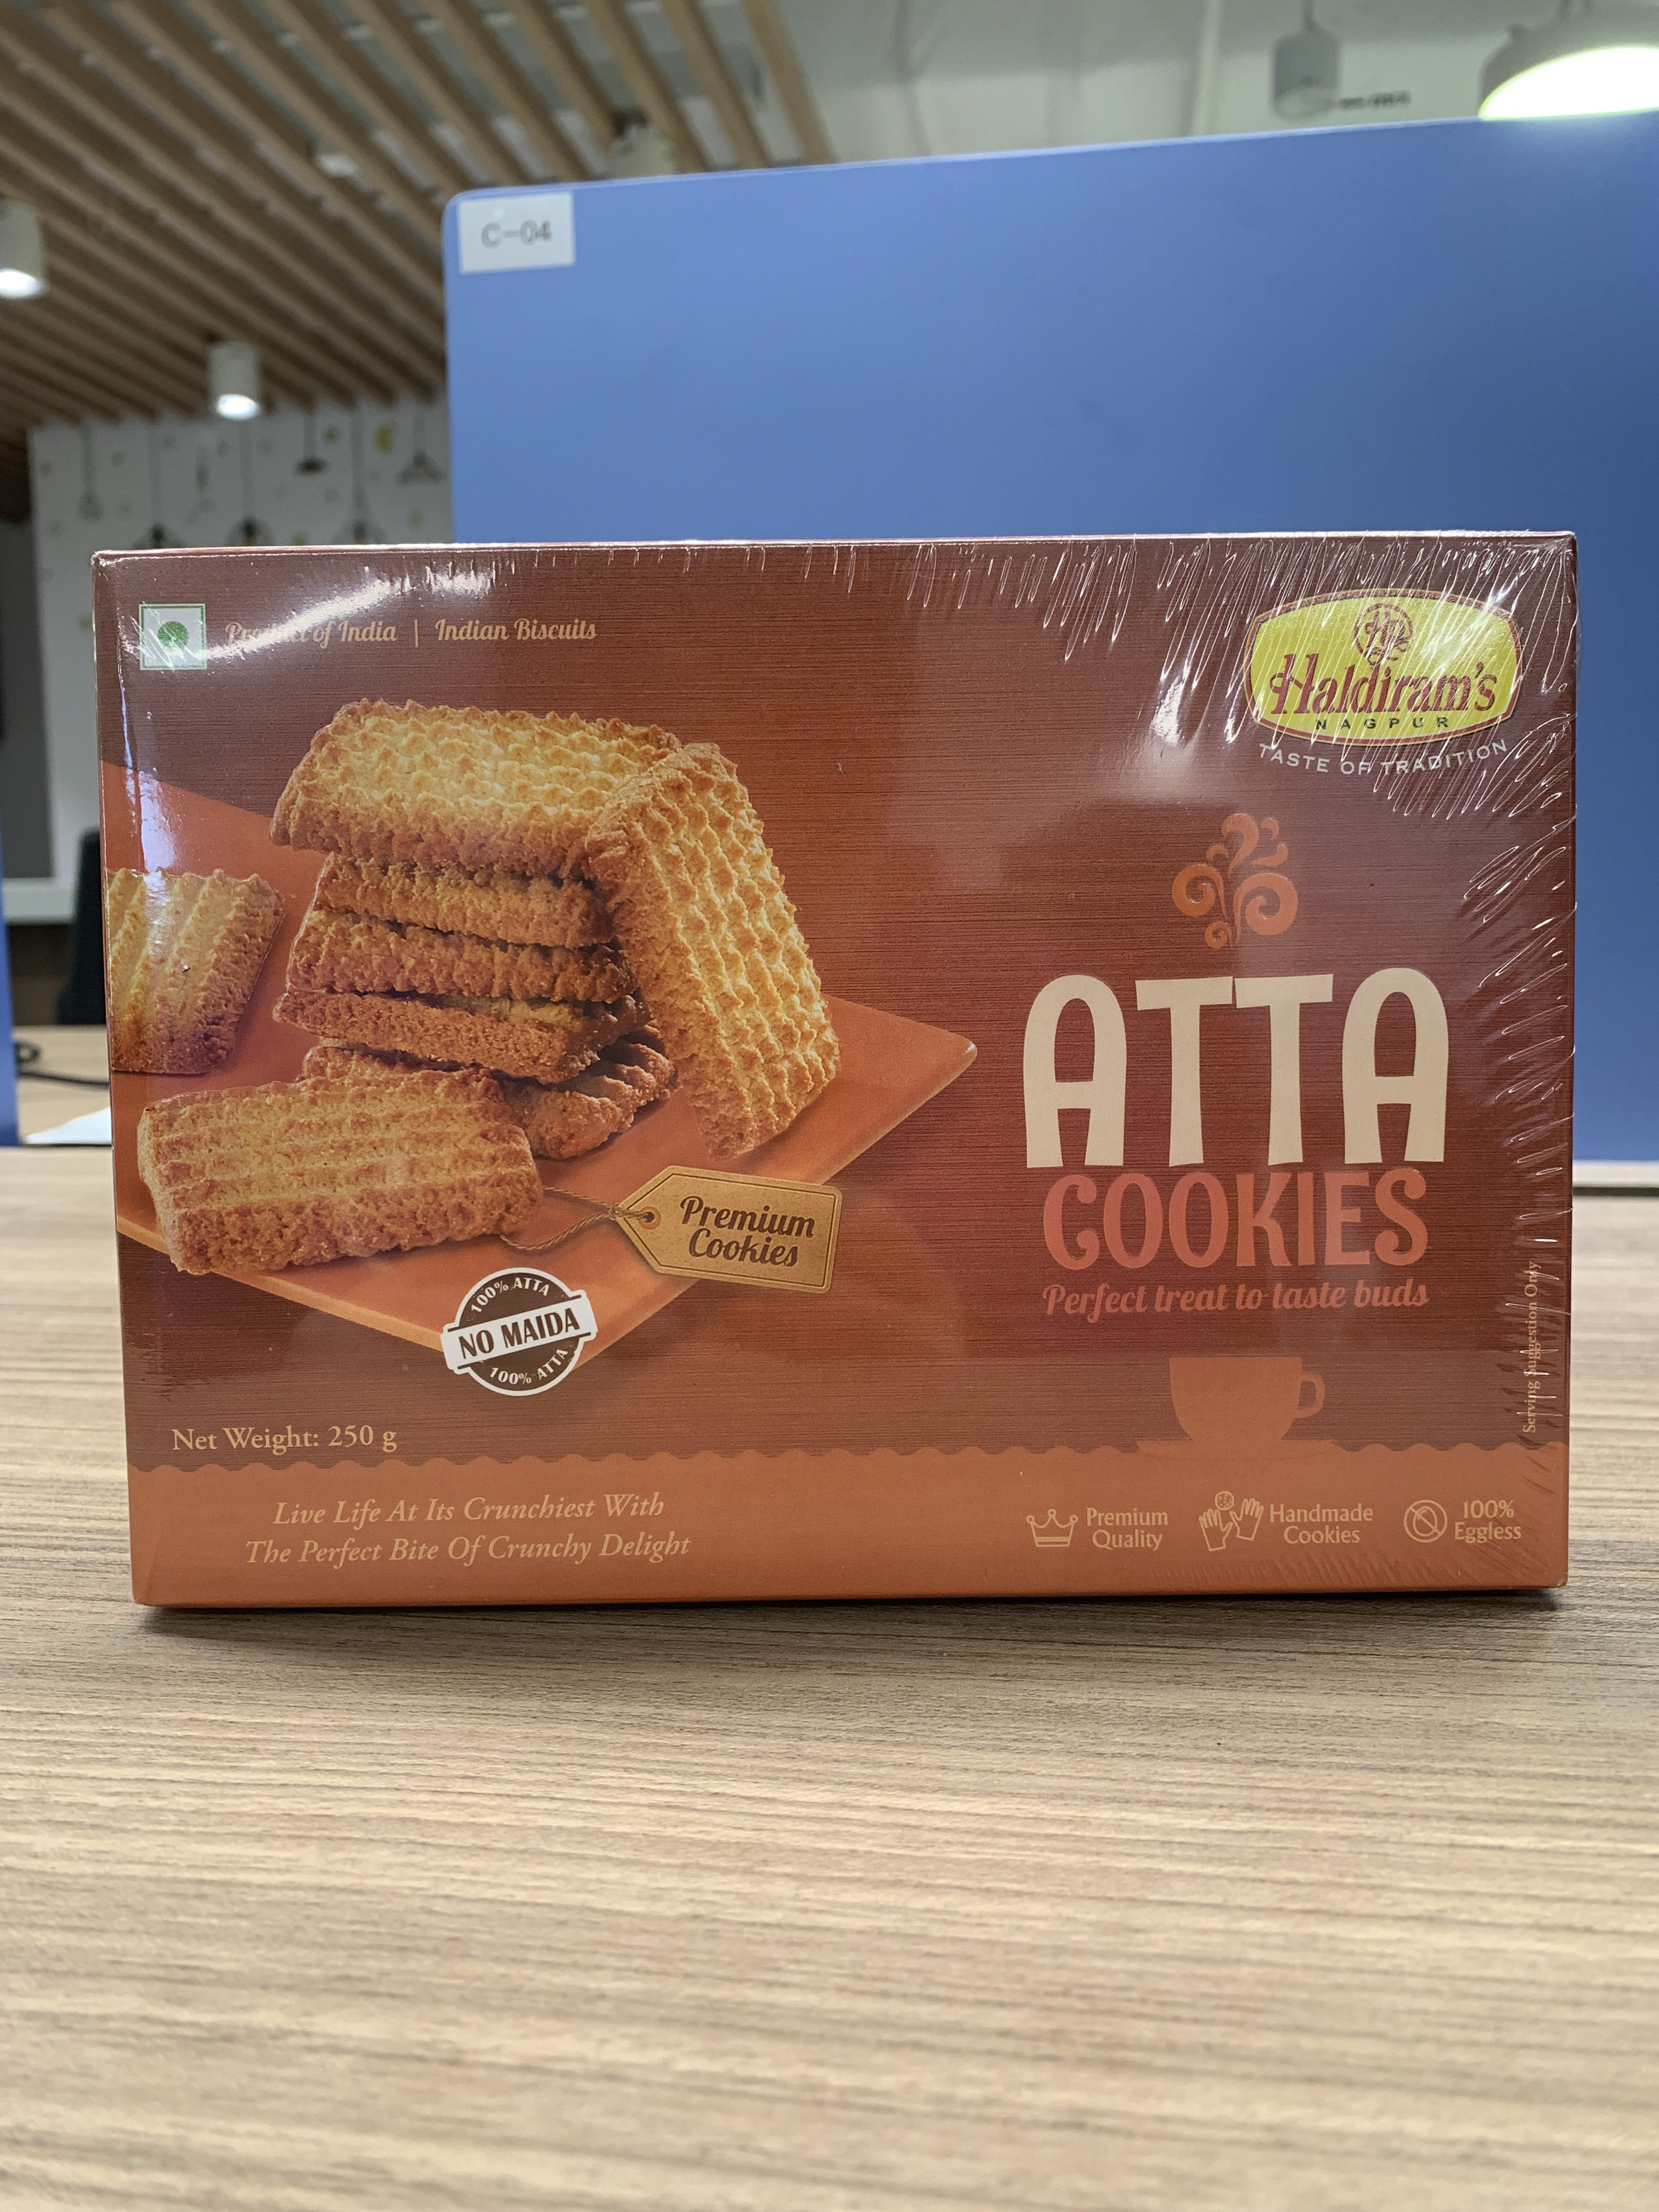cookies: (78, 514, 1588, 1630)
